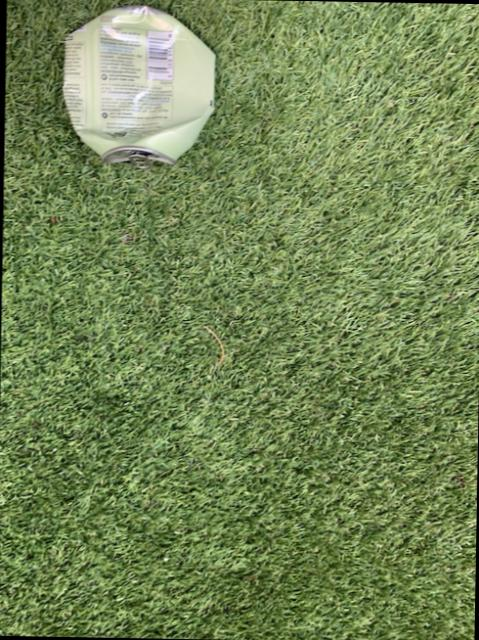metal: (61, 8, 212, 170)
